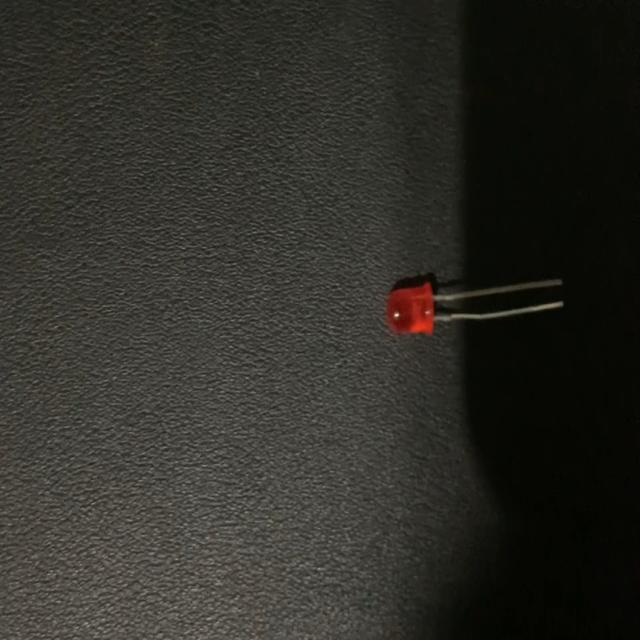LED: (386, 272, 565, 350)
